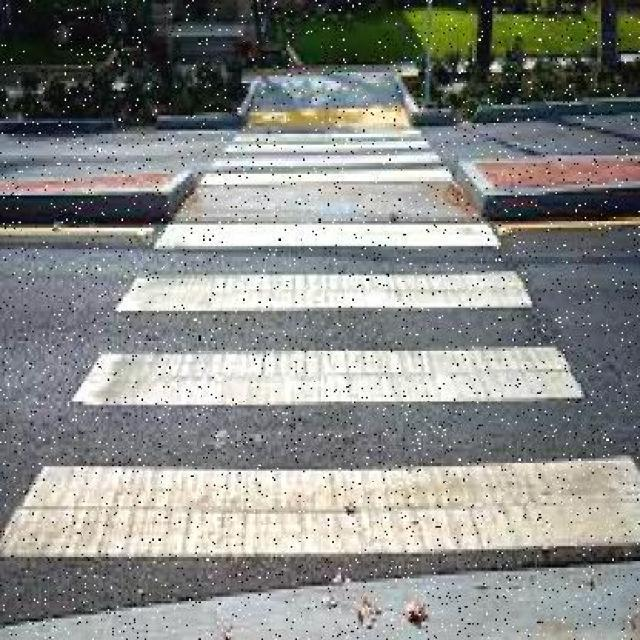crosswalk: (3, 219, 640, 553), (203, 130, 457, 186)
